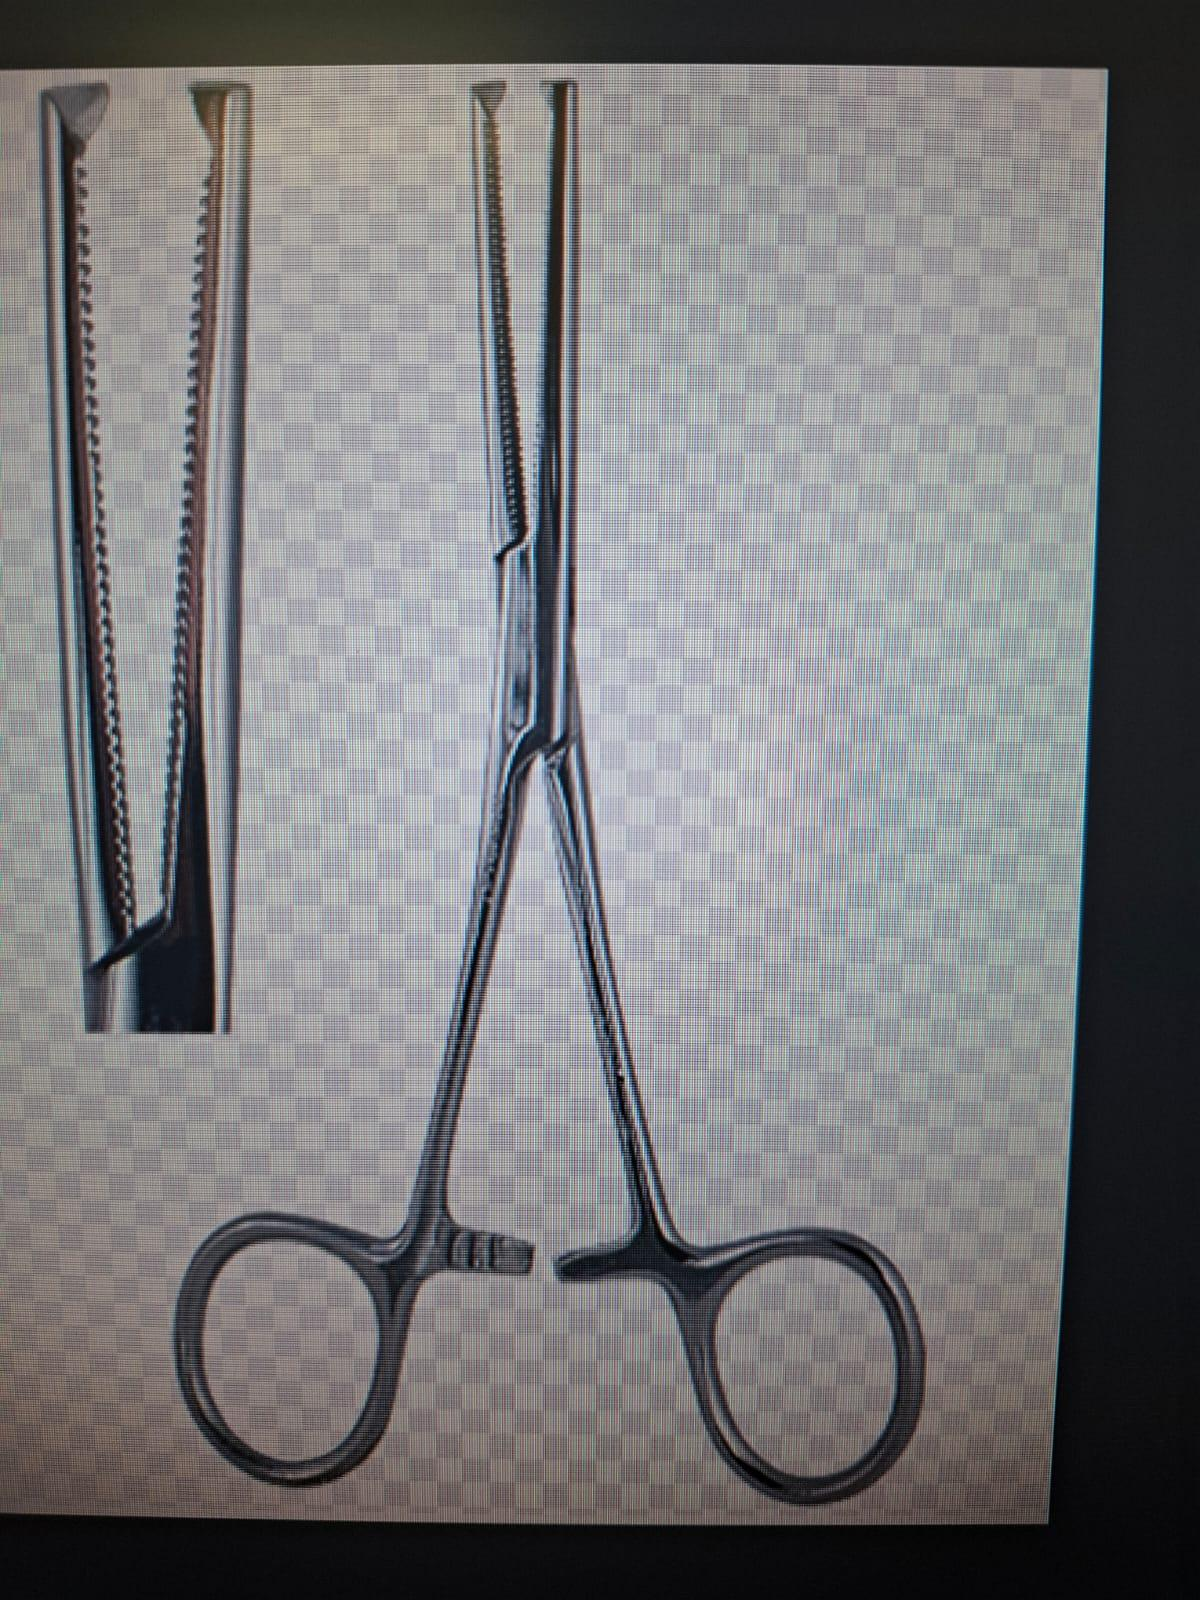Kocher Forceps: (175, 72, 948, 1510)
